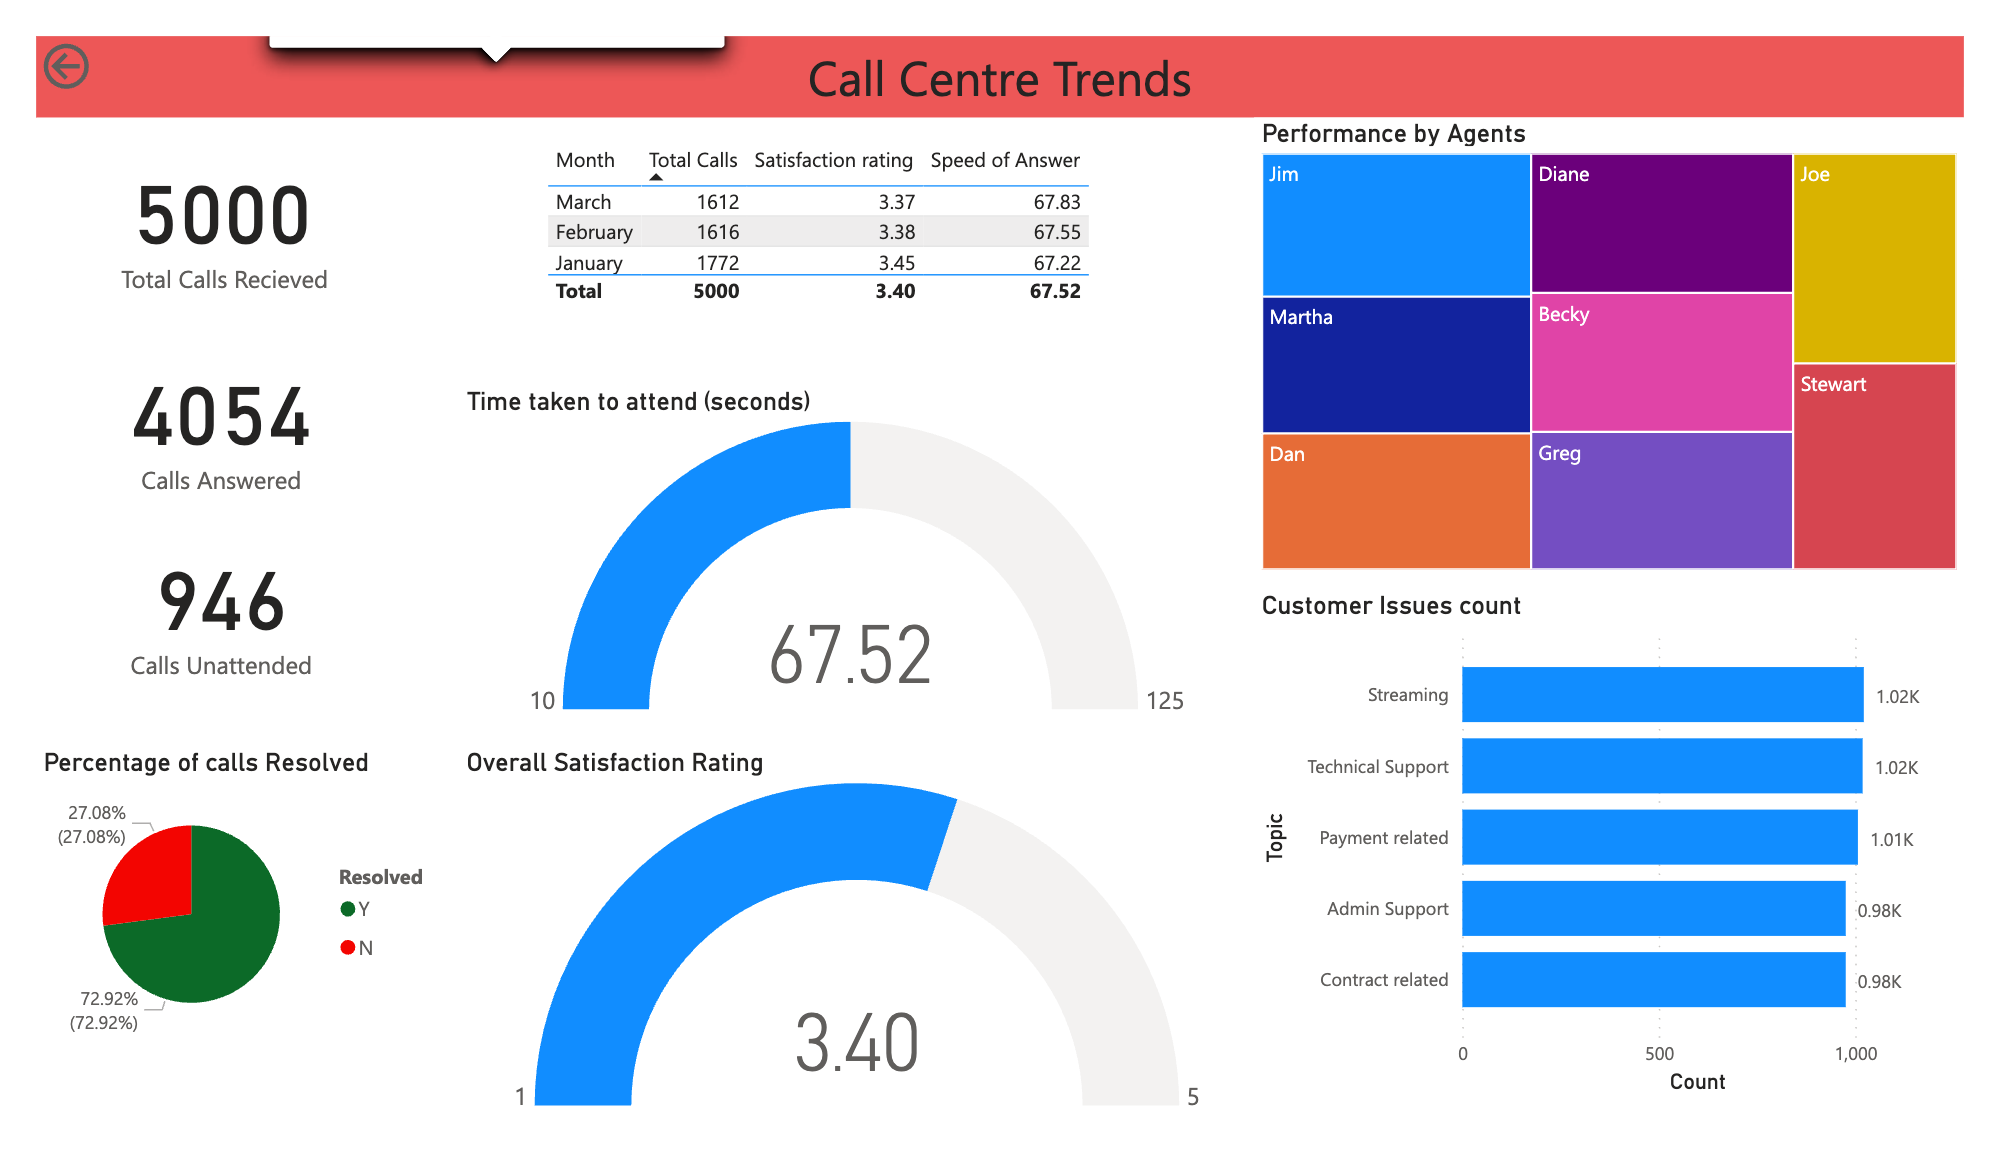

Layout of this report page (visuals, bound fields, positions):
{"tool":"powerbi","page":{"name":"Page 1","canvas":[1280,720],"ordinal":0},"visuals":[{"type":"card","fields":{"Values":["Sheet1.Total Calls"]},"box":[0,53.9,246.5,137.4],"z":0},{"type":"textbox","box":[0,0,1280,53.9],"z":1000},{"type":"card","fields":{"Values":["Sheet1.Total Calls"]},"box":[0,191.3,246.5,129.7],"z":2000},{"type":"actionButton","box":[0,0,100,40],"z":3000},{"type":"card","fields":{"Values":["Sheet1.Total Calls"]},"box":[0,318.4,246.5,122],"z":4000},{"type":"gauge","title":"Overall Satisfaction Rating","fields":{"Y":["Sheet1.Satisfaction rating"],"MinValue":["Sum(Sheet1.Satisfaction rating)1"],"MaxValue":["Sum(Sheet1.Satisfaction rating)2"]},"box":[281.2,472.5,527.7,247.8],"z":5000},{"type":"gauge","title":"Time taken to attend (seconds)","fields":{"Y":["Sheet1.Speed of answer in seconds"],"MinValue":["Sum(Sheet1.Speed of answer in seconds)1"],"MaxValue":["Sum(Sheet1.Speed of answer in seconds)2"]},"box":[281.2,232.4,527.7,224.7],"z":6000},{"type":"treemap","title":"Performance by Agents","fields":{"Group":["Sheet1.Agent"],"Values":["Sheet1.Resolved"]},"box":[808.8,53.9,471.2,305.6],"z":7000},{"type":"barChart","title":"Customer Issues count","fields":{"Y":["Sheet1.Call Id"],"Category":["Sheet1.Topic"]},"box":[808.8,368.5,471.2,338.9],"z":8000},{"type":"pieChart","title":"Percentage of calls Resolved ","fields":{"Category":["Sheet1.Resolved"],"Y":["Sheet1.Call Id"]},"box":[0,472.5,281.2,202.8],"z":9000},{"type":"tableEx","fields":{"Values":["Sheet1.Month","Sheet1.Total Calls","Sheet1.Satisfaction rating","Sheet1.Speed of answer in seconds"]},"box":[333.8,66.8,376.2,124.5],"z":10001}]}

Visuals, with their boxes on the page's 1280x720 design canvas (x1, y1, x2, y2). These are canvas units, not pixel positions in the 2000x1156 screenshot, which may show the page scaled, cropped or inside an application window:
card - Sheet1.Total Calls: (left=0, top=54, right=246, bottom=191)
textbox: (left=0, top=0, right=1280, bottom=54)
card - Sheet1.Total Calls: (left=0, top=191, right=246, bottom=321)
actionButton: (left=0, top=0, right=100, bottom=40)
card - Sheet1.Total Calls: (left=0, top=318, right=246, bottom=440)
"Overall Satisfaction Rating" gauge: (left=281, top=472, right=809, bottom=720)
"Time taken to attend (seconds)" gauge: (left=281, top=232, right=809, bottom=457)
"Performance by Agents" treemap: (left=809, top=54, right=1280, bottom=360)
"Customer Issues count" barChart: (left=809, top=368, right=1280, bottom=707)
"Percentage of calls Resolved " pieChart: (left=0, top=472, right=281, bottom=675)
tableEx - Sheet1.Month x Sheet1.Total Calls: (left=334, top=67, right=710, bottom=191)
